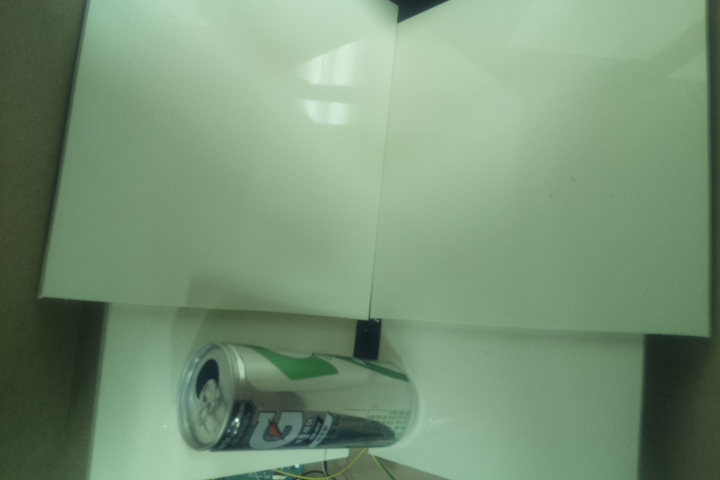can: (175, 337, 416, 455)
